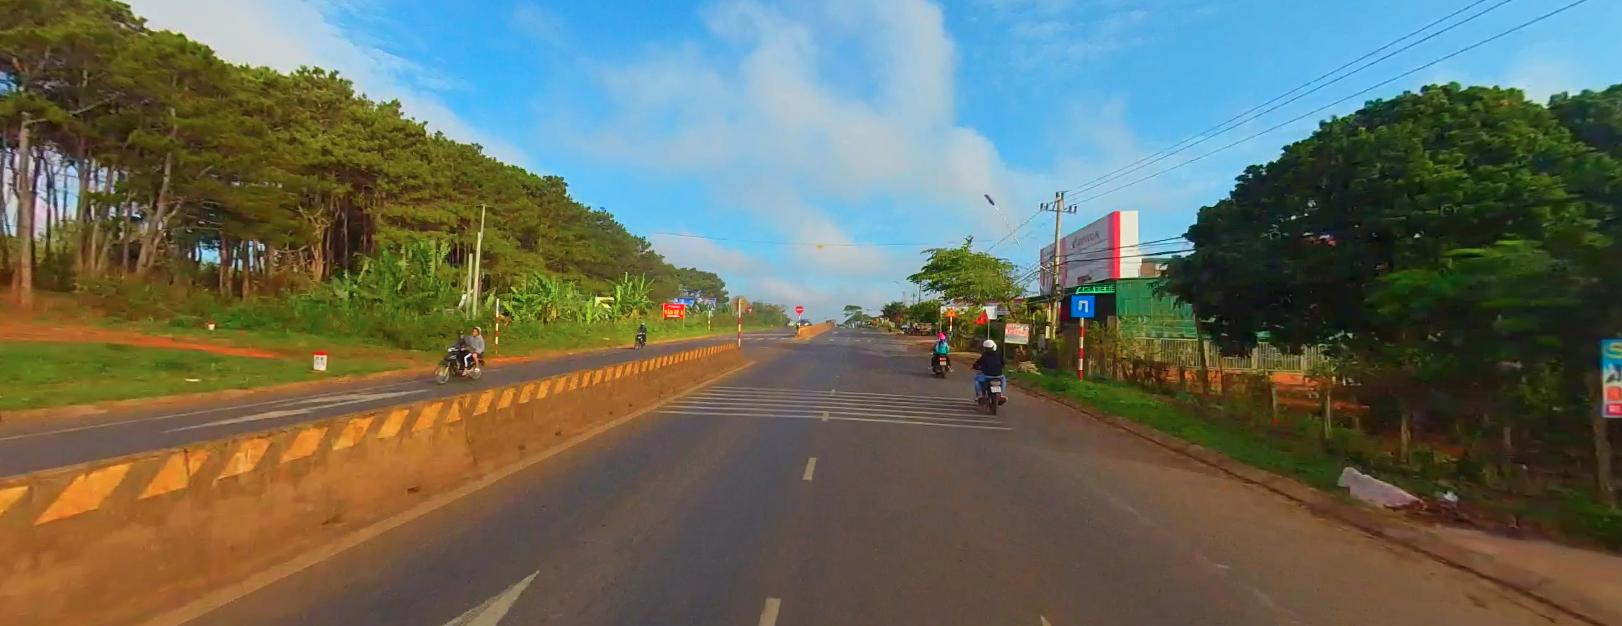Cam nguoc chieu: (794, 303, 803, 311)
Nguy hiem: (945, 306, 957, 315)
